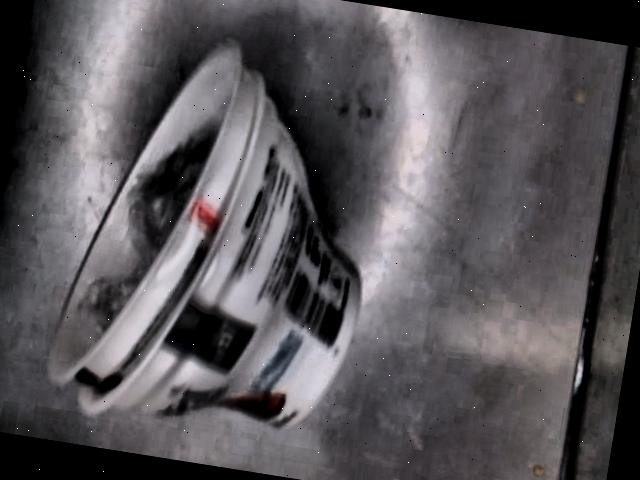Plastic: (49, 43, 358, 433)
